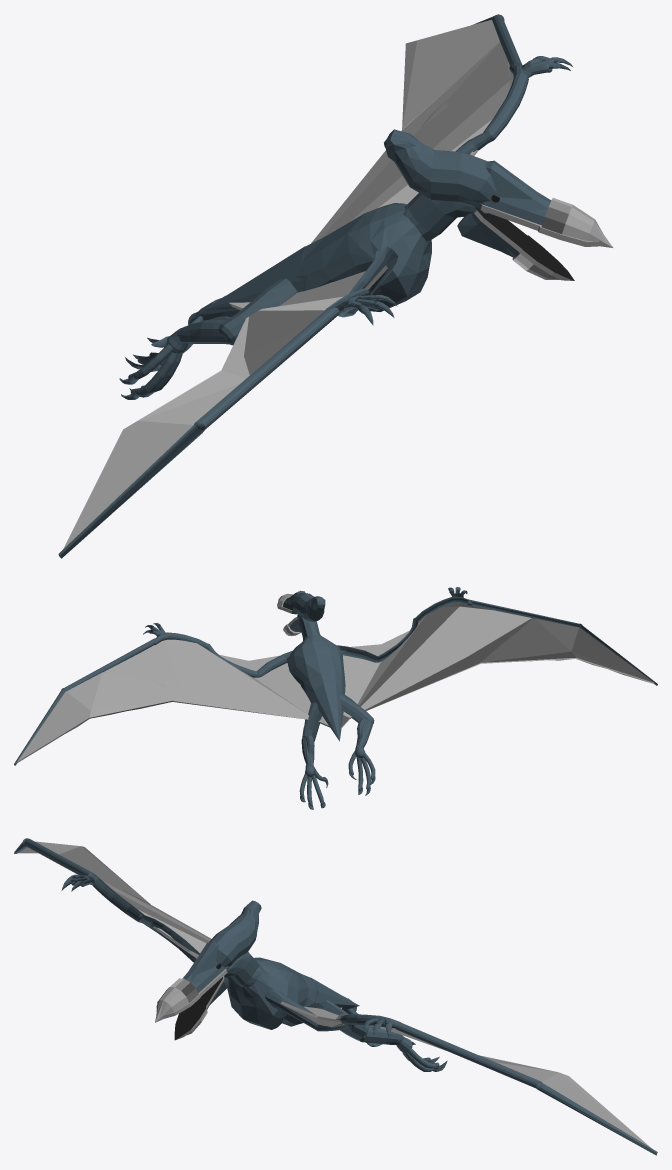
File: pterosaur.glb
3 renders of one model, top to bottom at view 1: azimuth 30°, elevation 25°; view 2: azimuth 150°, elevation 25°; view 3: azimuth 270°, elevation 25°, orthographic. The views are drawn at different scales.
Visible parts, largest first — view 1: body, wingB, wingA; view 2: wingB, wingA, body; view 3: body, wingA, wingB.
Part boxes in pixels (x1,y1,x2,y2): body: (119, 129, 613, 399); wingB: (58, 246, 398, 558); wingA: (311, 14, 573, 243); wingB: (336, 587, 657, 728); wingA: (14, 623, 329, 765); body: (277, 590, 375, 809); body: (155, 900, 447, 1071); wingA: (264, 989, 657, 1155); wingB: (14, 838, 229, 979).
Size of the model in its own units: 4.79 by 1.65 by 4.6.
